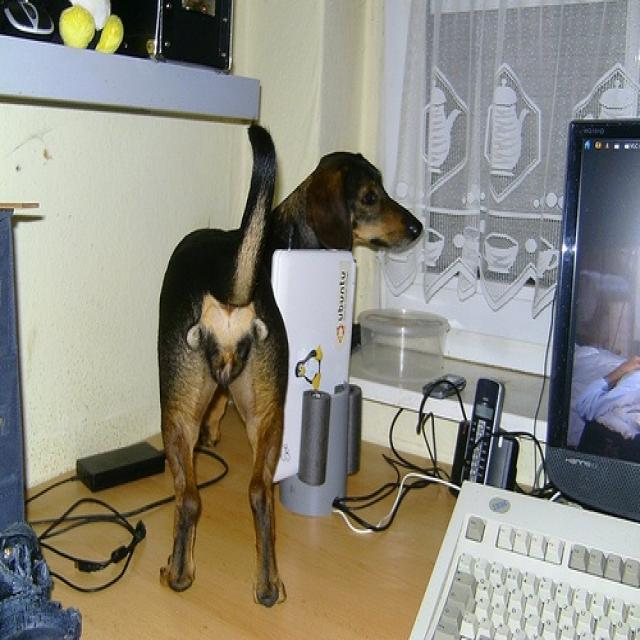dog: (156, 121, 422, 606)
